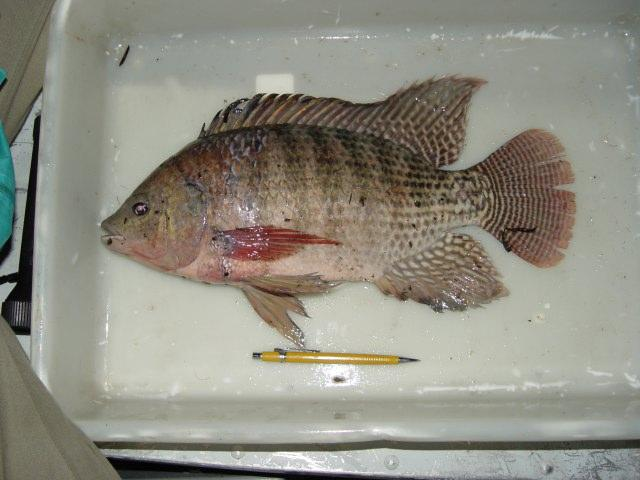Mulut: (91, 203, 127, 265)
Sirip Anal: (388, 225, 512, 315)
Sirip Ekor: (476, 114, 592, 274)
Sirip Perut: (228, 265, 339, 353), (220, 214, 342, 272)
Sirip Punggung: (192, 59, 484, 176)
